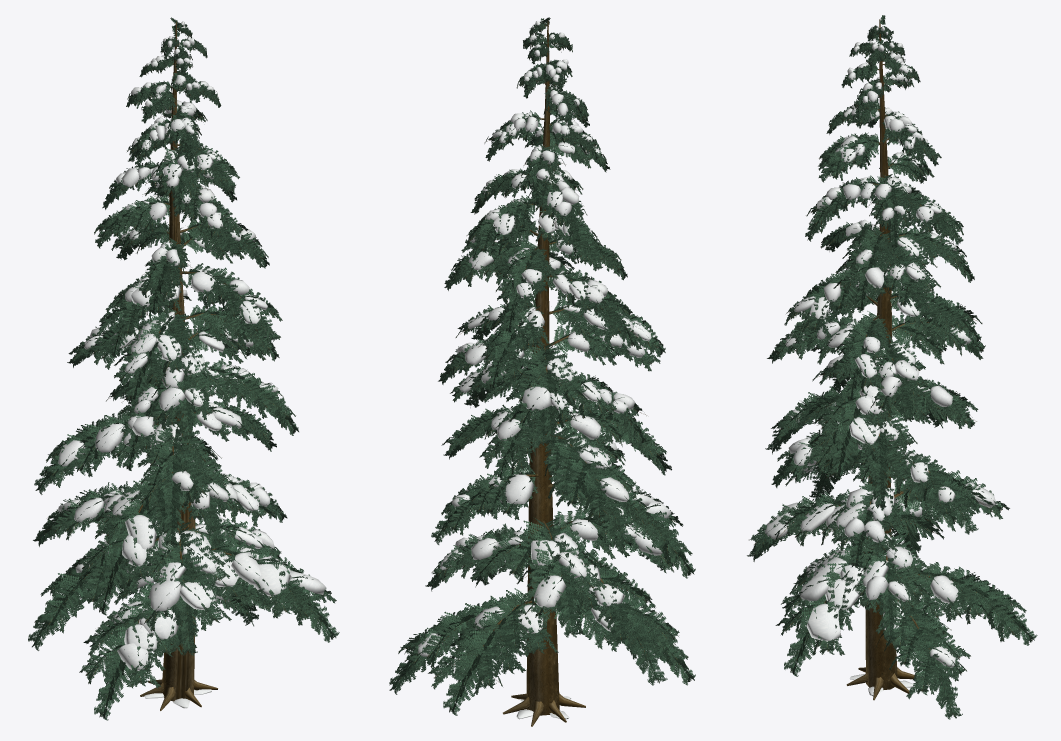
3 views of the same model, side by side, from view 1: azimuth 30°, elevation 25°; view 2: azimuth 150°, elevation 25°; view 3: azimuth 270°, elevation 25° (orthographic). The views are drawn at different scales.
Visible parts, largest first — view 1: Mesh_NeedleSprays, Mesh_SupportedSnowLoads, Mesh_BarkStructure; view 2: Mesh_NeedleSprays, Mesh_SupportedSnowLoads, Mesh_BarkStructure; view 3: Mesh_NeedleSprays, Mesh_SupportedSnowLoads, Mesh_BarkStructure.
Part boxes in pixels (x1,y1,x2,y2): Mesh_NeedleSprays: (28,17,339,720); Mesh_SupportedSnowLoads: (58,21,325,708); Mesh_BarkStructure: (35,21,334,710); Mesh_NeedleSprays: (389,17,695,715); Mesh_SupportedSnowLoads: (417,20,671,719); Mesh_BarkStructure: (400,20,690,726); Mesh_NeedleSprays: (747,15,1037,719); Mesh_SupportedSnowLoads: (765,26,996,696); Mesh_BarkStructure: (755,19,1013,704).
Bounding box in the file's own units: 5.23 × 12.4 × 5.26.
Materials: 3 (3 with a texture image).
